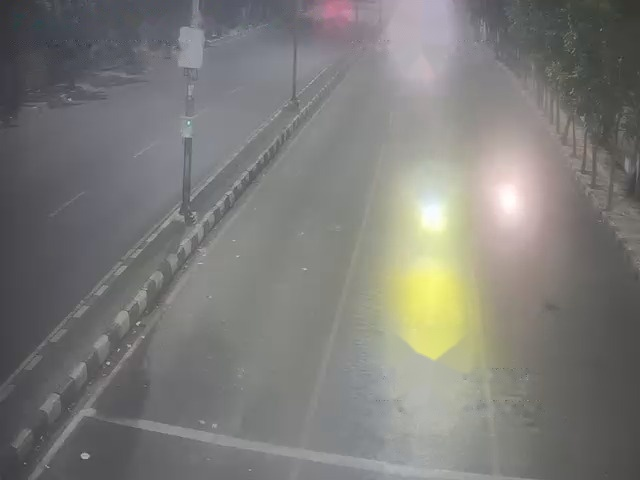Mobil: (496, 182, 516, 220)
Motor: (418, 191, 444, 239)
